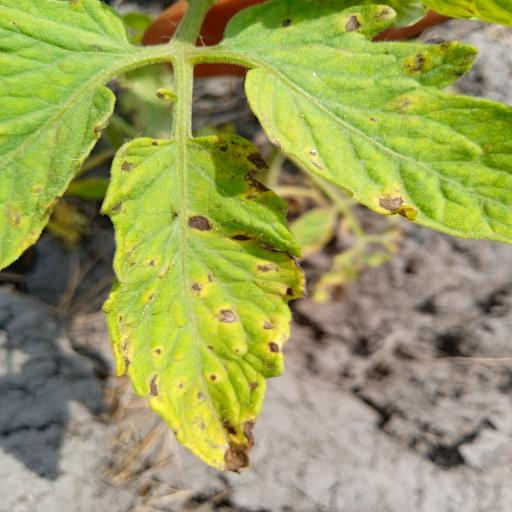Tomato_Brown_Spots: (83, 122, 316, 493)
